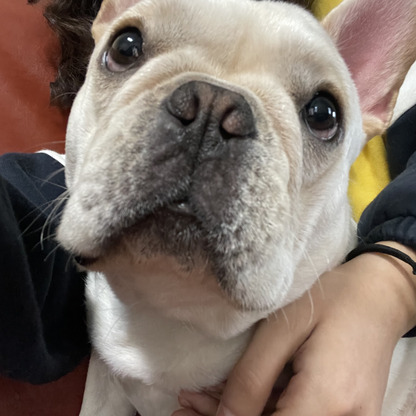bulldog: (51, 1, 407, 346)
